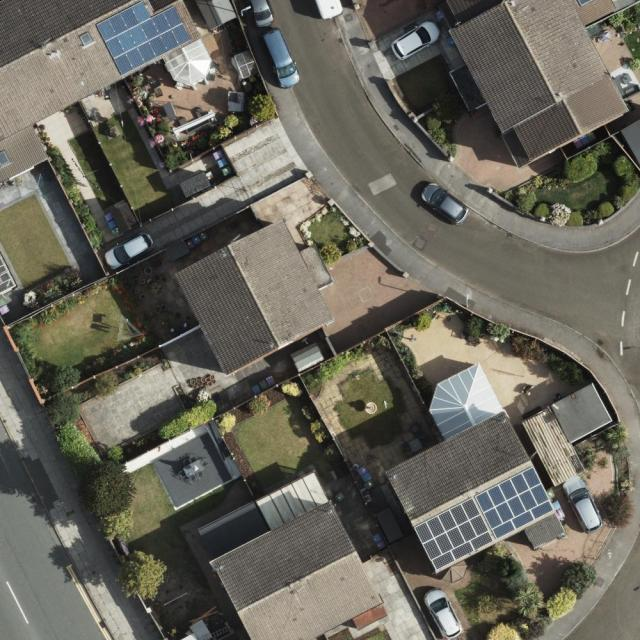roof: (385, 362, 566, 584), (0, 0, 213, 188), (195, 472, 390, 640), (449, 0, 640, 169), (173, 217, 331, 377)
skylight: (164, 35, 212, 83), (75, 30, 92, 49), (0, 148, 10, 168), (574, 0, 589, 8)
solar: (96, 2, 192, 77), (475, 465, 554, 540), (413, 498, 494, 571)
